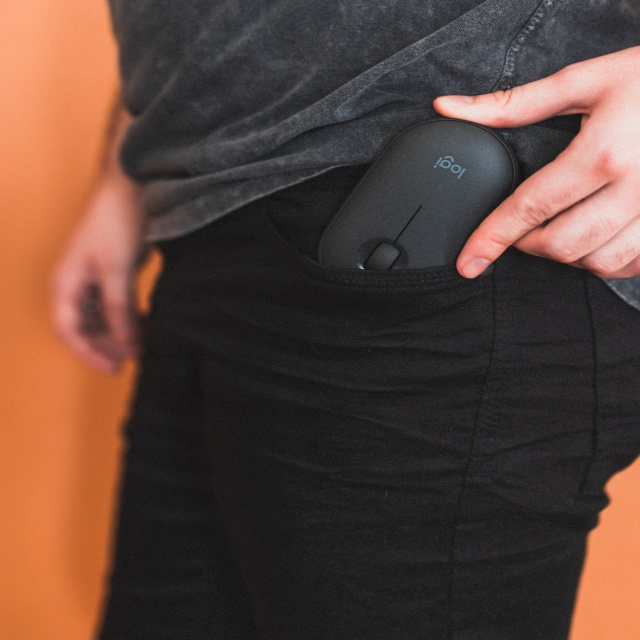Sin_guantes: (430, 72, 640, 291), (48, 151, 158, 372)
